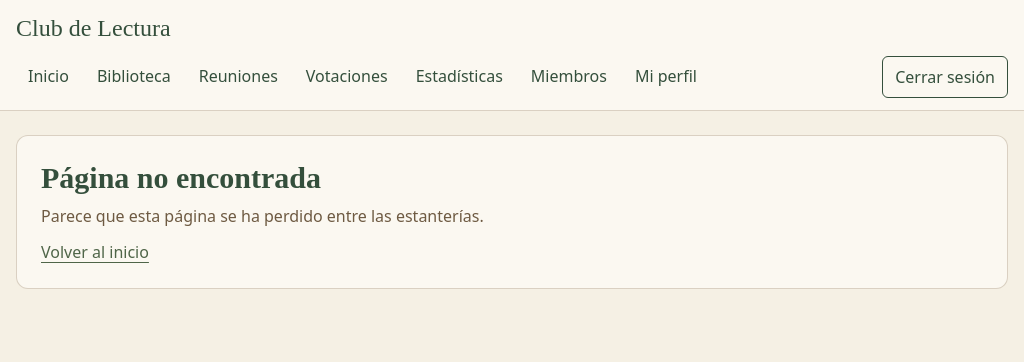
Test: session gate using the HTTP session adapters › keeps the signed-in shell on safe CSRF logout failure
This screenshot has width=1024, height=362.
Step 1. Click the button "Cerrar sesión" → (945, 77), box top-left (882, 56), bottom-right (1008, 98)
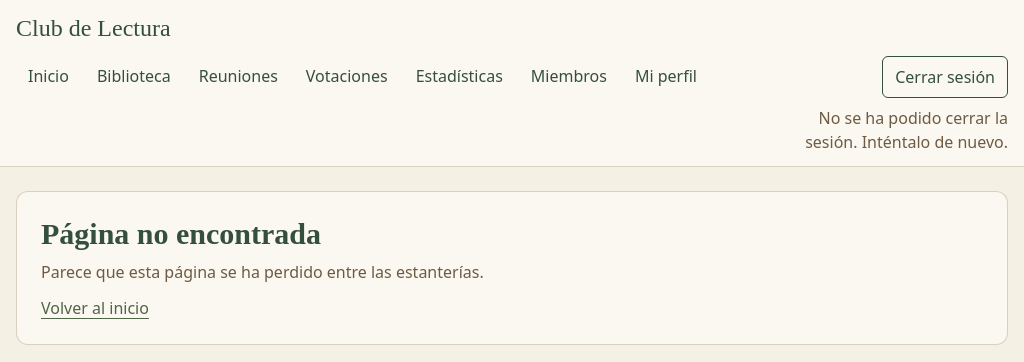
Expected: the navigation bar named "Principal" is shown, top-left (28, 65), bottom-right (697, 87)
Expected: the message reads "No se ha podido cerrar la sesión. Inténtalo de nuevo.", top-left (805, 107), bottom-right (1008, 153)
